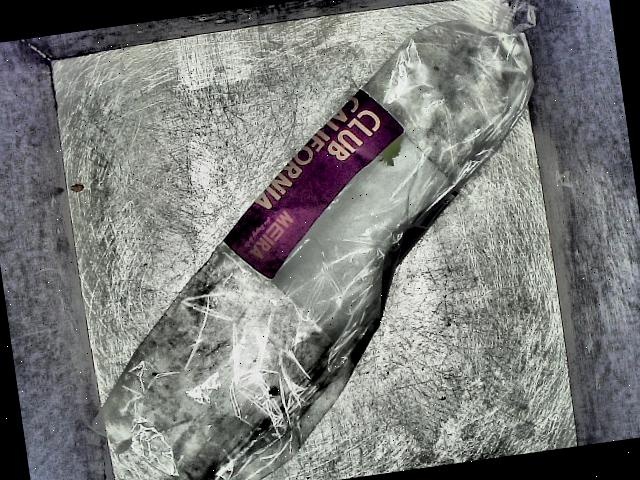Plastic: (40, 0, 592, 480)
